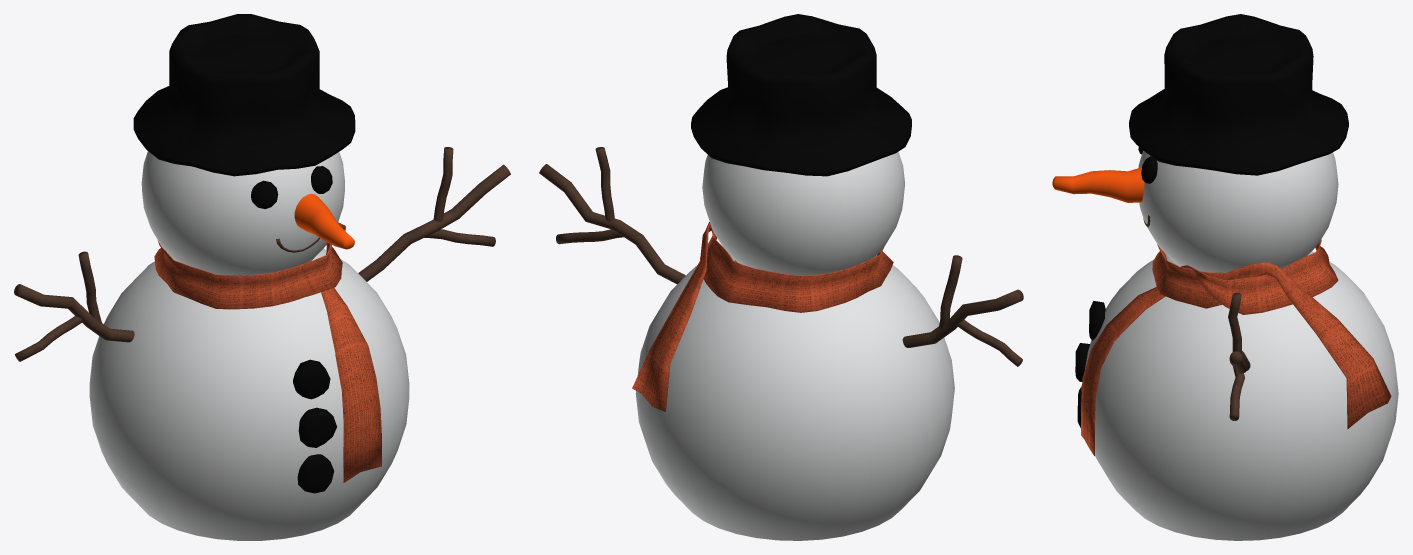
The model's file is obstaculo_nieve_snowman_2.fbx.
The picture shows the model from 3 angles, left to right: view 1: azimuth 30°, elevation 25°; view 2: azimuth 150°, elevation 25°; view 3: azimuth 270°, elevation 25°; orthographic projection.
Visible parts, largest first — view 1: obstaculo_nieve_snowman_2:Mesh; view 2: obstaculo_nieve_snowman_2:Mesh; view 3: obstaculo_nieve_snowman_2:Mesh.
Boxes of the visible parts, x1,y1,x2,y2 form: obstaculo_nieve_snowman_2:Mesh: (14,14,510,540); obstaculo_nieve_snowman_2:Mesh: (539,14,1023,540); obstaculo_nieve_snowman_2:Mesh: (1052,14,1398,540).
Size of the model in its own units: 8.52 by 7.53 by 5.29.
1 material, 1 textured.
